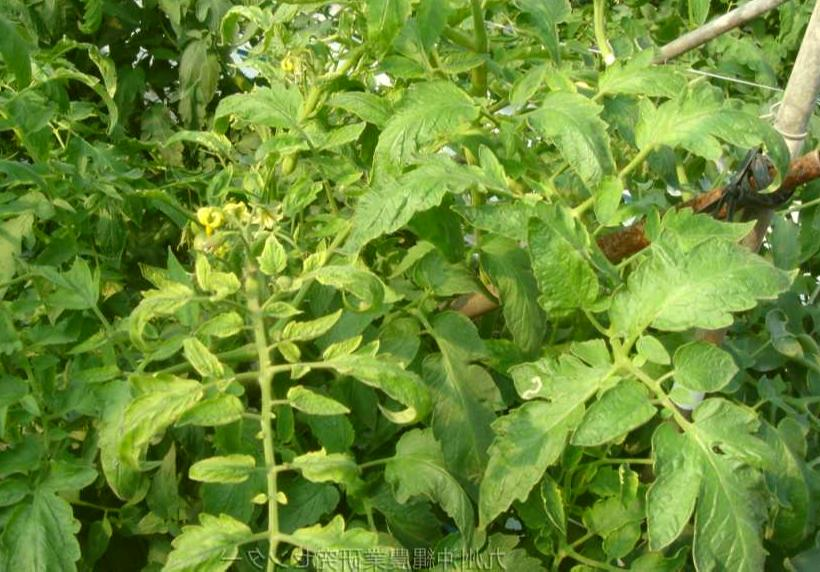Tomato leaf yellow virus: (649, 381, 813, 572), (466, 347, 613, 537), (596, 225, 770, 346), (320, 161, 490, 265), (622, 84, 813, 159), (350, 82, 485, 180), (95, 379, 206, 486), (327, 330, 431, 426), (575, 51, 729, 102), (136, 501, 246, 572), (295, 519, 415, 572), (117, 273, 190, 357), (348, 0, 429, 73), (207, 79, 309, 135), (169, 386, 256, 444), (283, 443, 366, 499), (278, 380, 353, 429), (179, 454, 262, 489), (243, 232, 291, 283)
